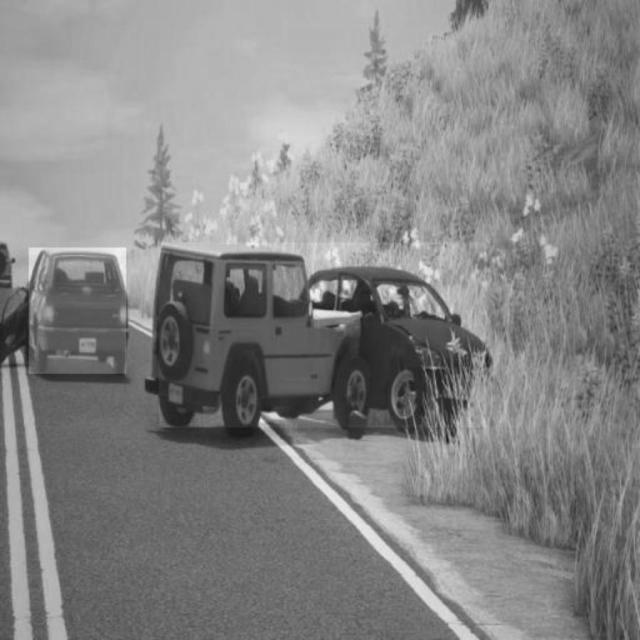accident: (160, 242, 487, 428)
vehicle: (29, 248, 127, 374)
